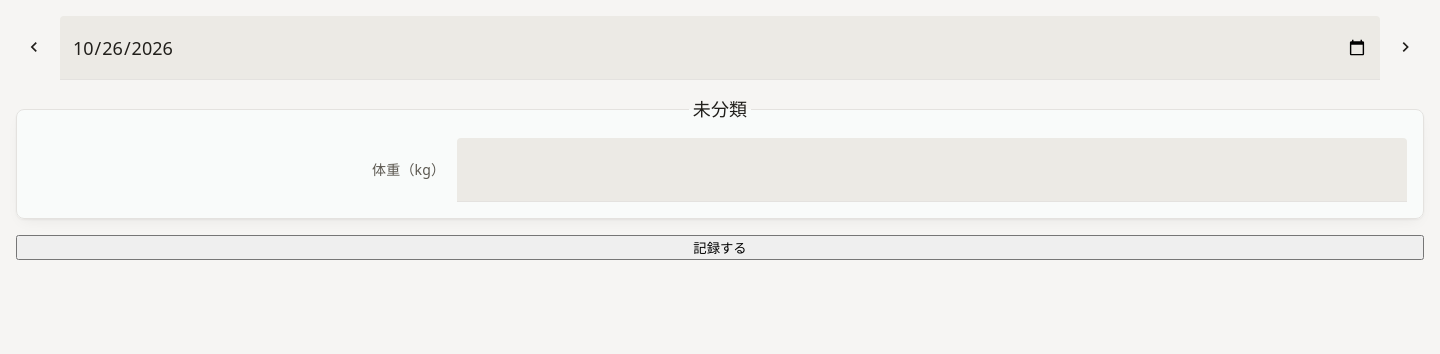
Test case: EntryFormScreen › pre-fills an existing entry for the selected date and updates it instead of duplicating
Expected: the number field named "体重" is shown, [457,138,1407,201]
Type "2026-07-15" into the date field named "記録日" at (720, 48), box [60,16,1380,80]
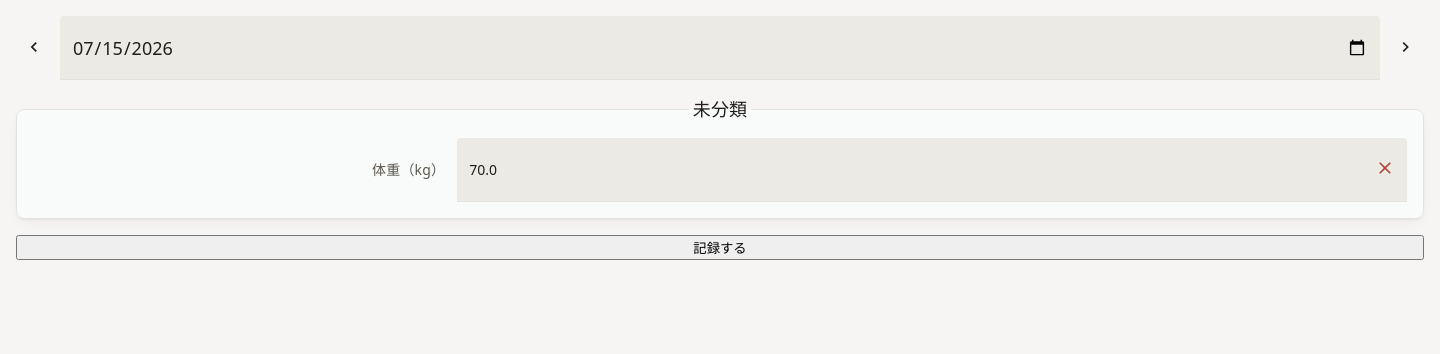
Now the number field named "体重" holds "70"
Replace the text in the number field named "体重" with "71.5" at (912, 170), box [457,138,1367,201]
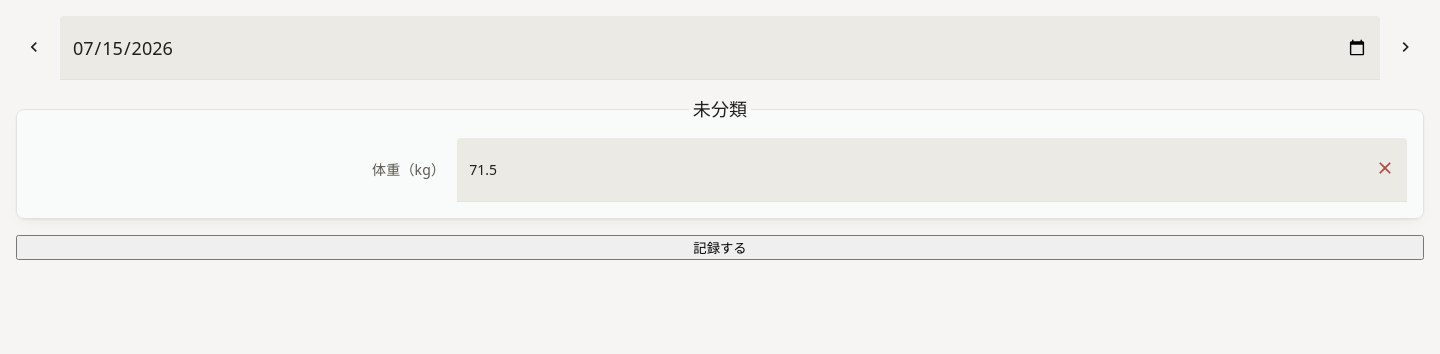
Click the button "記録する" at (720, 248), box [16,235,1424,260]
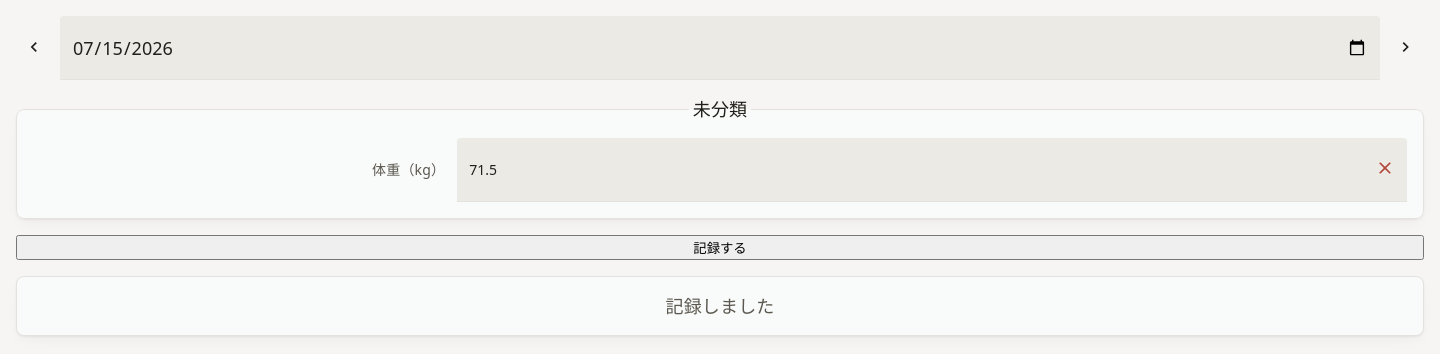
Now the text "記録しました" is shown, box [16,276,1424,336]
